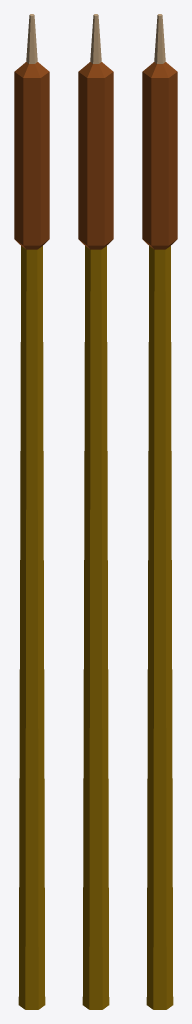
File: Vegetation_Modular_Rush_Frond_Cattail_01.fbx
3 views of the same model, side by side, from view 1: azimuth 90°, elevation 25°; view 2: azimuth 150°, elevation 25°; view 3: azimuth 330°, elevation 25° (orthographic).
Visible parts, largest first — view 1: Vegetation_Modular_Rush_Frond_Cattail_01; view 2: Vegetation_Modular_Rush_Frond_Cattail_01; view 3: Vegetation_Modular_Rush_Frond_Cattail_01.
Part boxes in pixels (x1,y1,x2,y2): Vegetation_Modular_Rush_Frond_Cattail_01: (14, 14, 49, 1009); Vegetation_Modular_Rush_Frond_Cattail_01: (78, 14, 113, 1009); Vegetation_Modular_Rush_Frond_Cattail_01: (142, 14, 177, 1009).
Bounding box in the file's own units: 51.35 × 1846 × 59.29.
